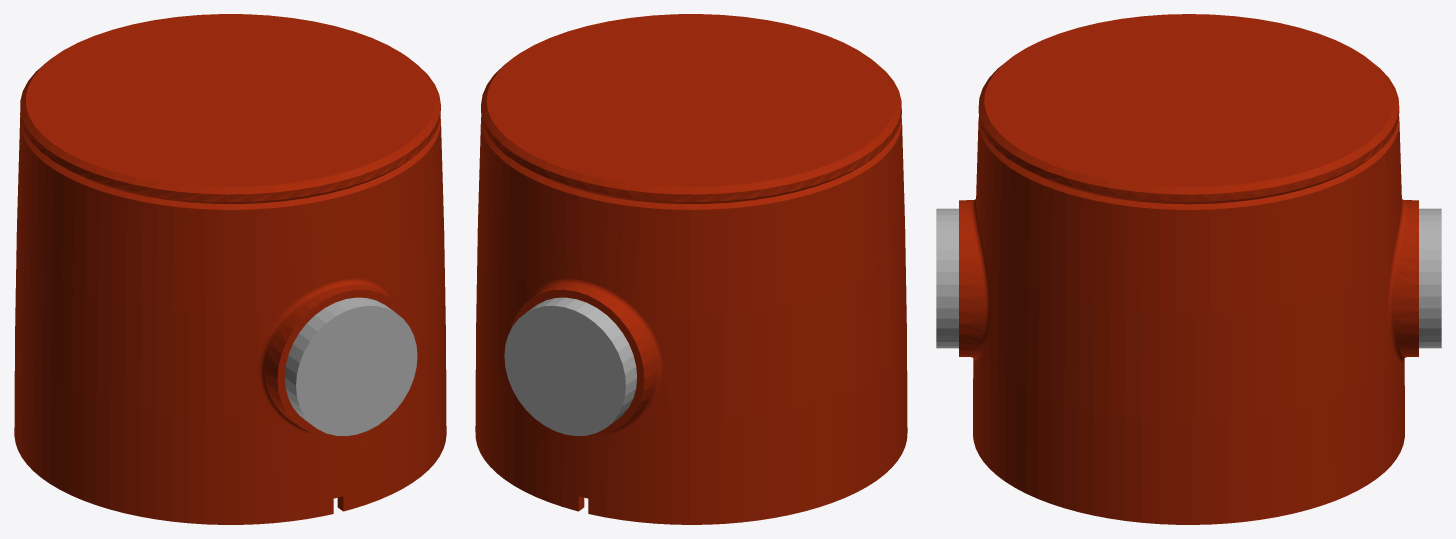
The picture shows the model from 3 angles, left to right: view 1: azimuth 30°, elevation 25°; view 2: azimuth 150°, elevation 25°; view 3: azimuth 270°, elevation 25°; orthographic projection.
Visible parts, largest first — view 1: Link6; view 2: Link6; view 3: Link6.
Boxes of the visible parts, x1,y1,x2,y2 form: Link6: (14,14,446,524); Link6: (475,14,907,524); Link6: (936,14,1441,524).
Bounding box in the file's own units: 0.077 × 0.0655 × 0.09.
